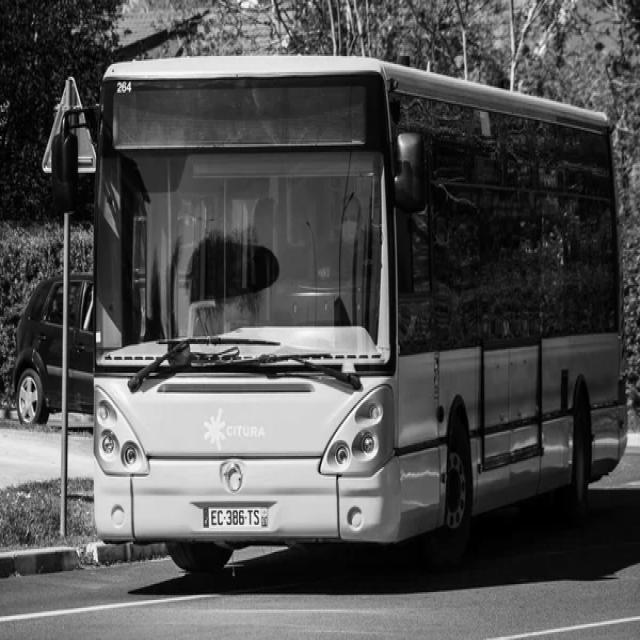Bus: (43, 56, 628, 572)
Car: (13, 272, 104, 437)
Pole: (60, 211, 69, 537)
